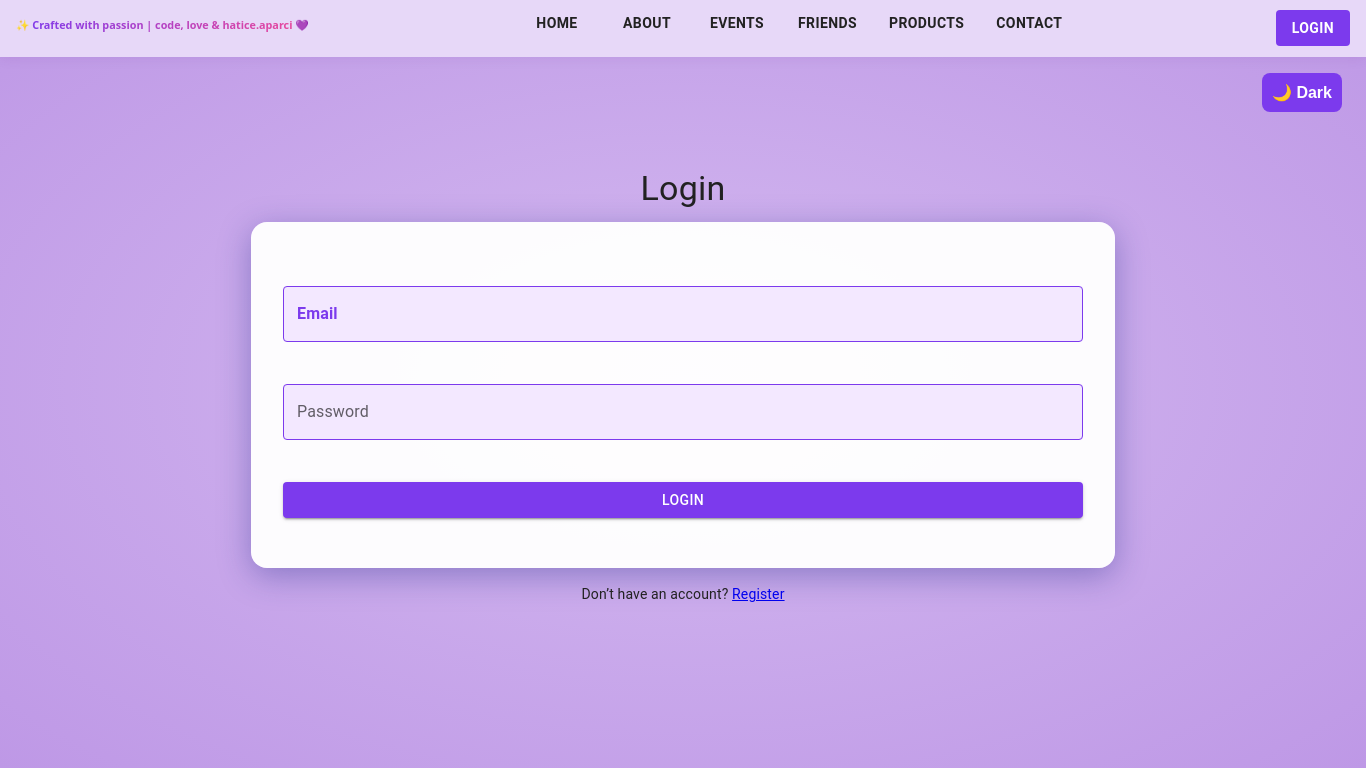
Scenario: Login Page E2E Tests › 2️⃣ Display an error for incorrect password
Type "user@example.com" into the field with id "login-email" at (683, 314), box [283,286,1083,342]
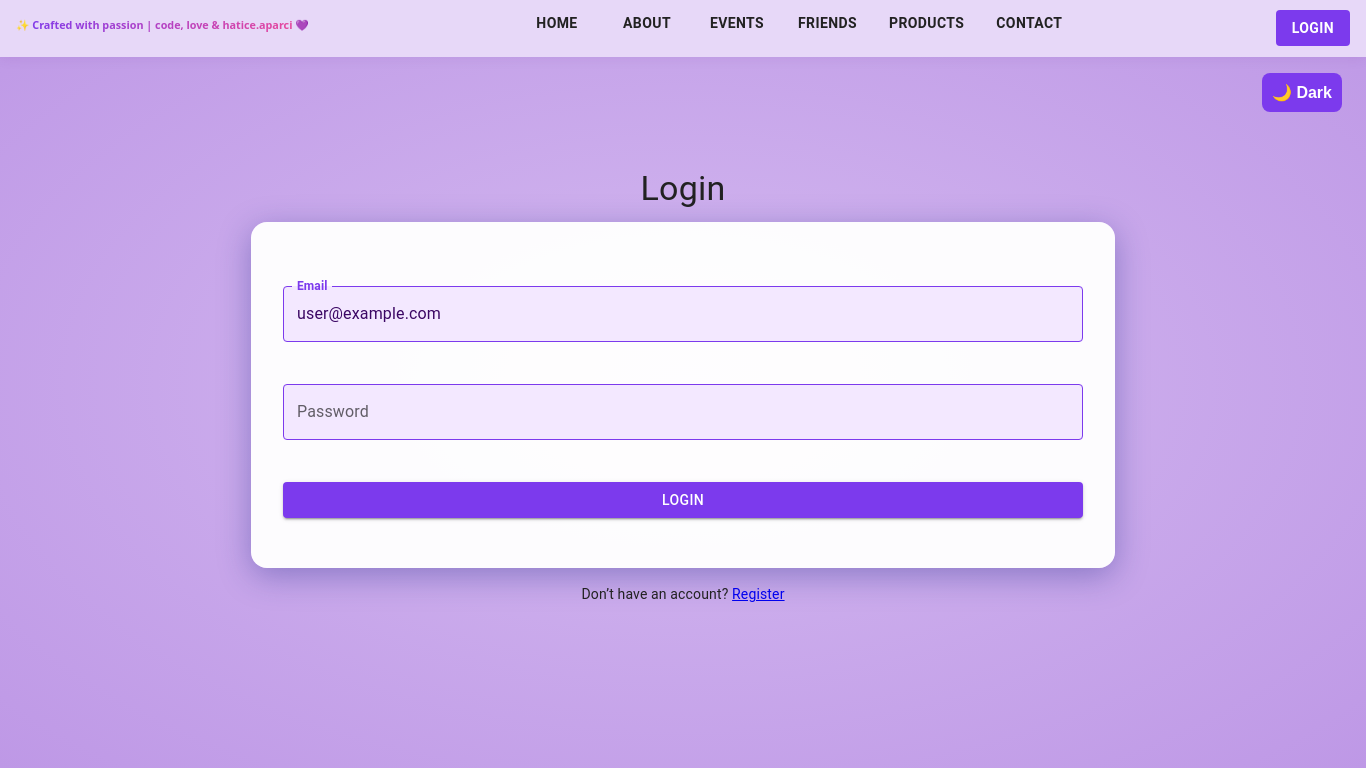
Type "wrongpassword" into the password field with id "login-password" at (683, 412), box [283,384,1083,440]
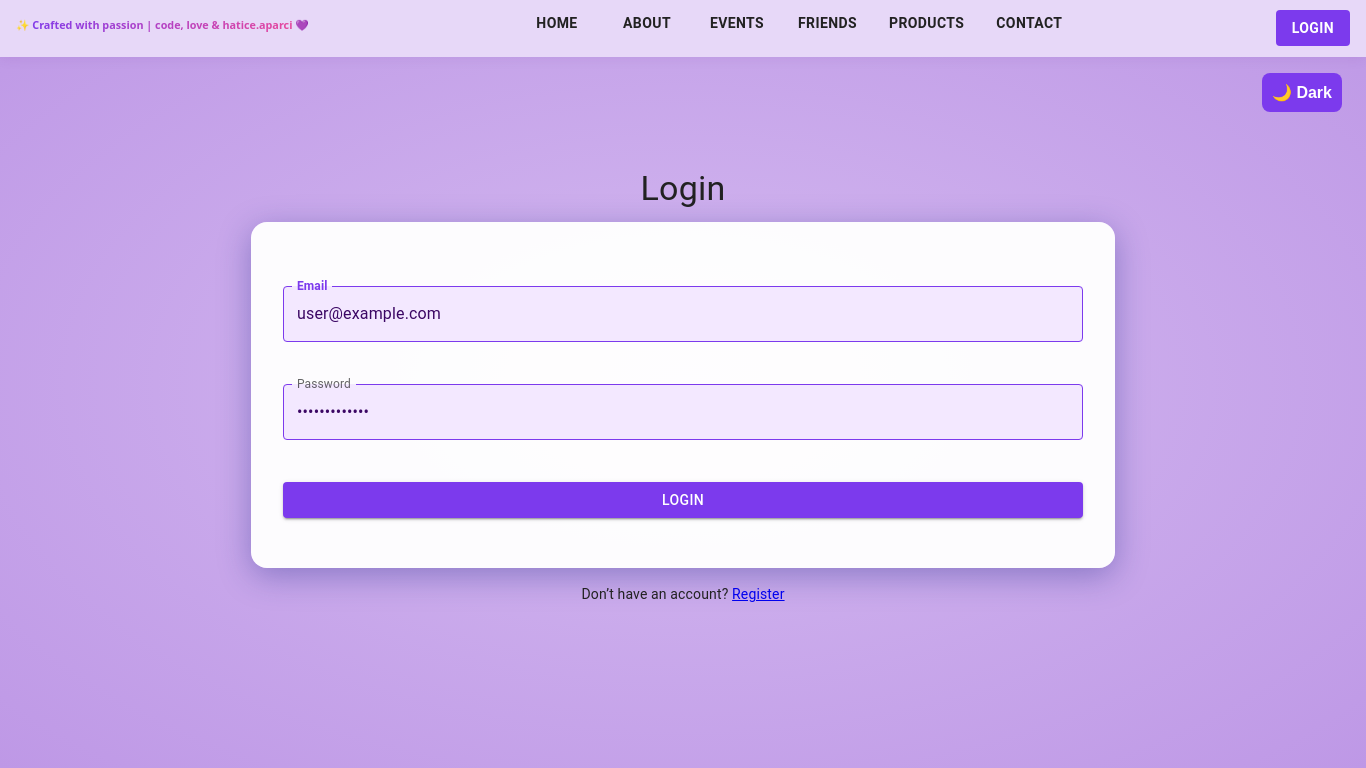
Click the button with id "login-btn" at (683, 501), box [283,482,1083,519]
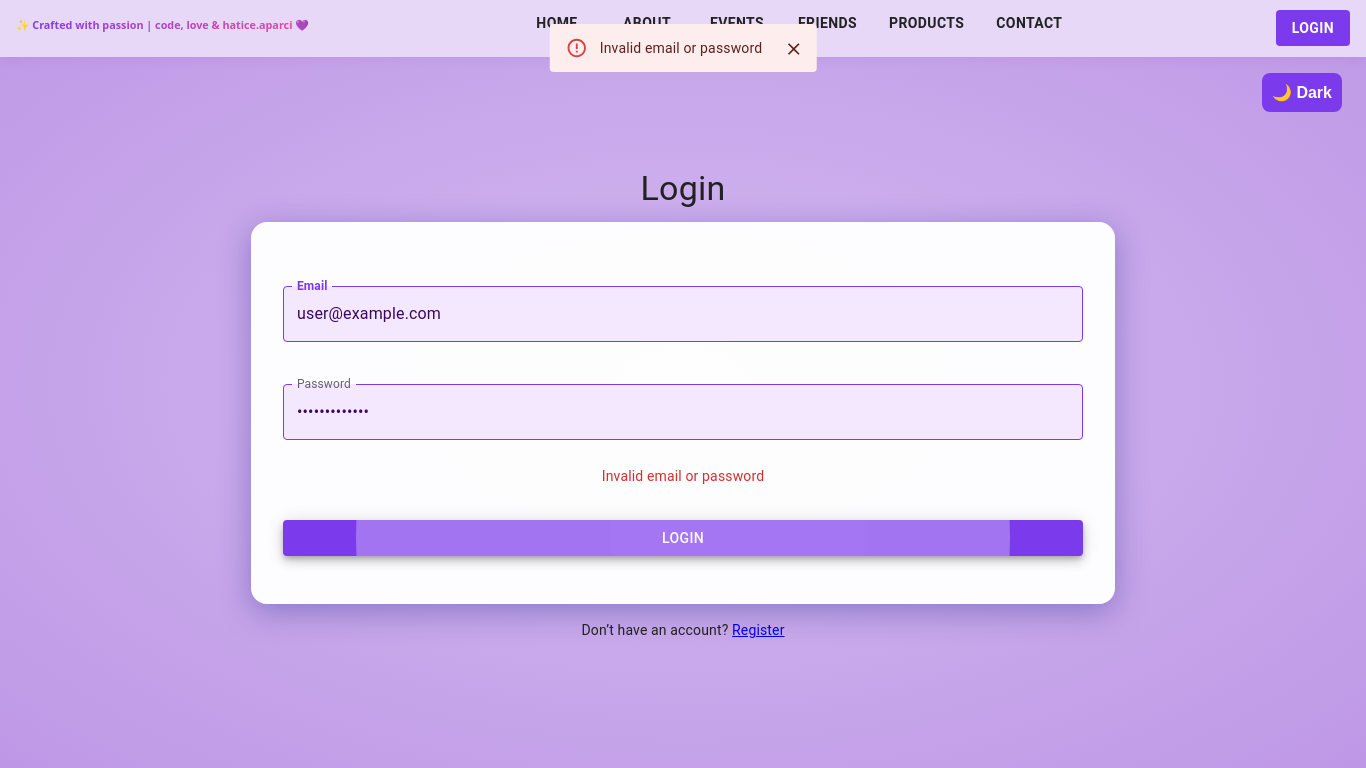
Expected: the message "Invalid email or password" is shown, [550,24,816,72]
